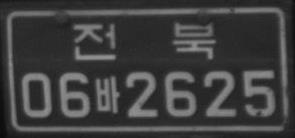0: (20, 71, 53, 119)
2: (124, 70, 159, 118), (203, 69, 237, 118)
5: (242, 69, 277, 118)
6: (163, 69, 197, 118), (58, 71, 92, 118)
바: (94, 74, 120, 114)
전북_D: (73, 20, 217, 62)
